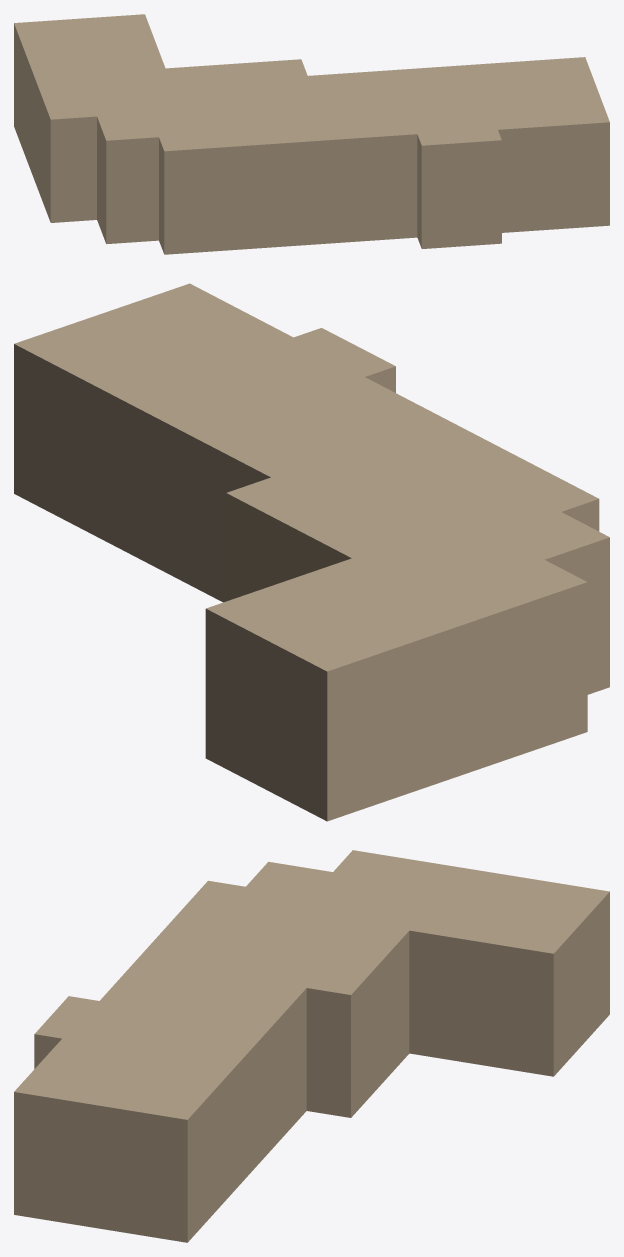
Rendered from bld_104408971.dae.
3 renders of one model, top to bottom at view 1: azimuth 30°, elevation 25°; view 2: azimuth 150°, elevation 25°; view 3: azimuth 270°, elevation 25°, orthographic. The views are drawn at different scales.
Visible parts, largest first — view 1: Headland Barn; view 2: Headland Barn; view 3: Headland Barn.
Part boxes in pixels (x1,y1,x2,y2): Headland Barn: (14, 14, 609, 254); Headland Barn: (14, 283, 609, 821); Headland Barn: (14, 850, 609, 1242).
Size of the model in its own units: 32.94 by 30.75 by 7.
